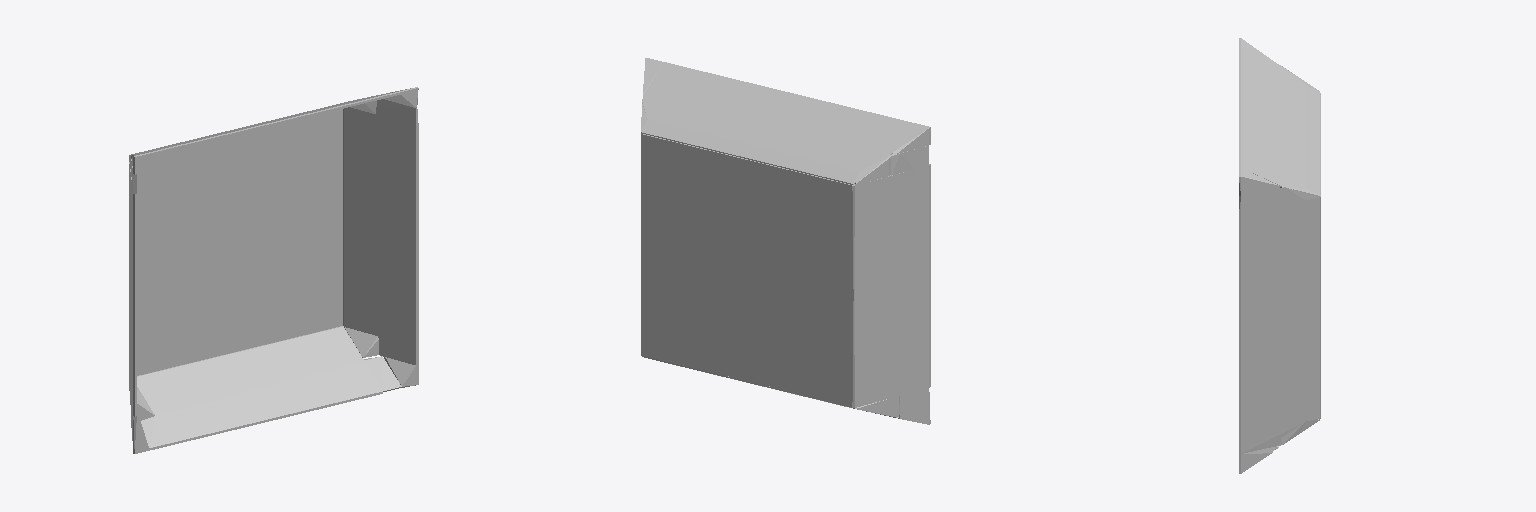
Rendered from square_plate_vhacd.obj.
3 renders of one model, left to right at view 1: azimuth 30°, elevation 25°; view 2: azimuth 150°, elevation 25°; view 3: azimuth 270°, elevation 25°, orthographic.
Parts seen in each view (by area): view 1: convex_2, convex_4, convex_1, convex_0, convex_3, convex_13, convex_8, convex_7; view 2: convex_2, convex_3, convex_0, convex_12, convex_5, convex_10, convex_11, convex_14; view 3: convex_4, convex_3, convex_9.
Boxes of the visible parts, x1=… form: convex_2: x1=137, y1=109, x2=342, y2=375; convex_4: x1=343, y1=99, x2=418, y2=365; convex_1: x1=137, y1=326, x2=382, y2=450; convex_0: x1=129, y1=162, x2=136, y2=416; convex_3: x1=135, y1=91, x2=400, y2=154; convex_13: x1=364, y1=356, x2=401, y2=391; convex_8: x1=384, y1=357, x2=418, y2=387; convex_7: x1=344, y1=327, x2=378, y2=357; convex_2: x1=641, y1=134, x2=852, y2=406; convex_3: x1=641, y1=62, x2=910, y2=184; convex_0: x1=852, y1=164, x2=930, y2=407; convex_12: x1=899, y1=388, x2=930, y2=424; convex_5: x1=890, y1=146, x2=928, y2=175; convex_10: x1=892, y1=122, x2=930, y2=153; convex_11: x1=855, y1=155, x2=890, y2=185; convex_14: x1=855, y1=396, x2=899, y2=417; convex_4: x1=1239, y1=187, x2=1319, y2=453; convex_3: x1=1239, y1=47, x2=1319, y2=196; convex_9: x1=1239, y1=168, x2=1279, y2=196.
Size of the model in its own units: 0.4032 by 0.4032 by 0.1016.